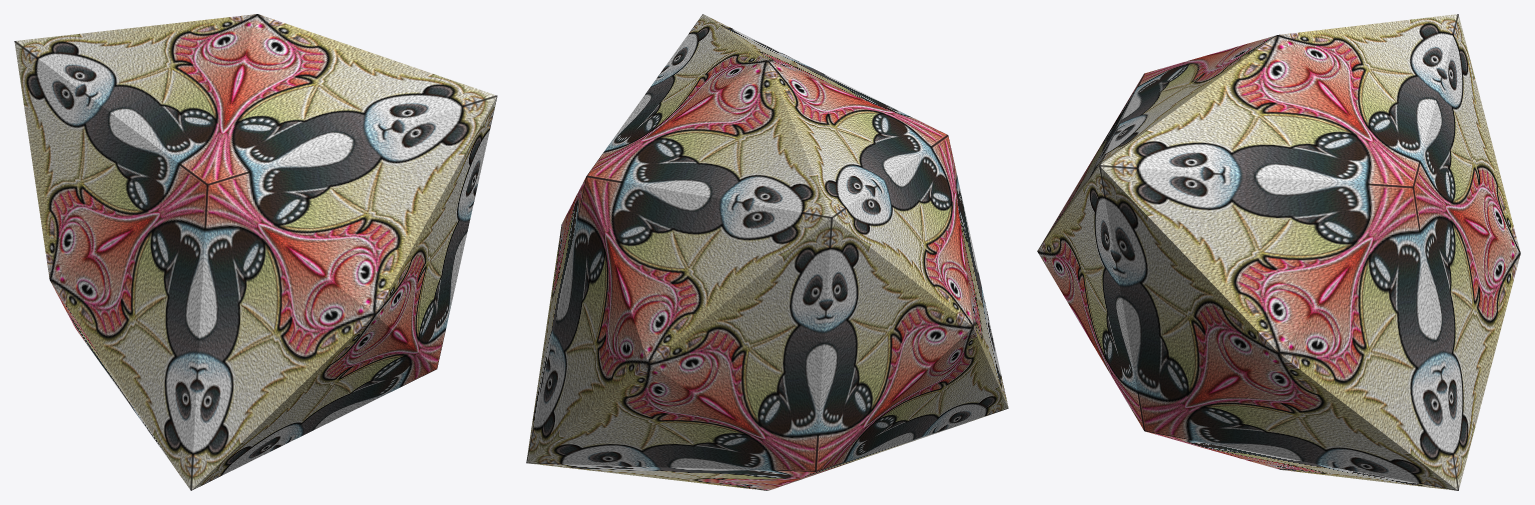
The model's file is HexakisTetrahedron18.obj.
The picture shows the model from 3 angles, left to right: view 1: azimuth 30°, elevation 25°; view 2: azimuth 150°, elevation 25°; view 3: azimuth 270°, elevation 25°; orthographic projection.
Bounding box in the file's own units: 9.9 × 9.85 × 9.9.
Materials: 1 (1 with a texture image).
